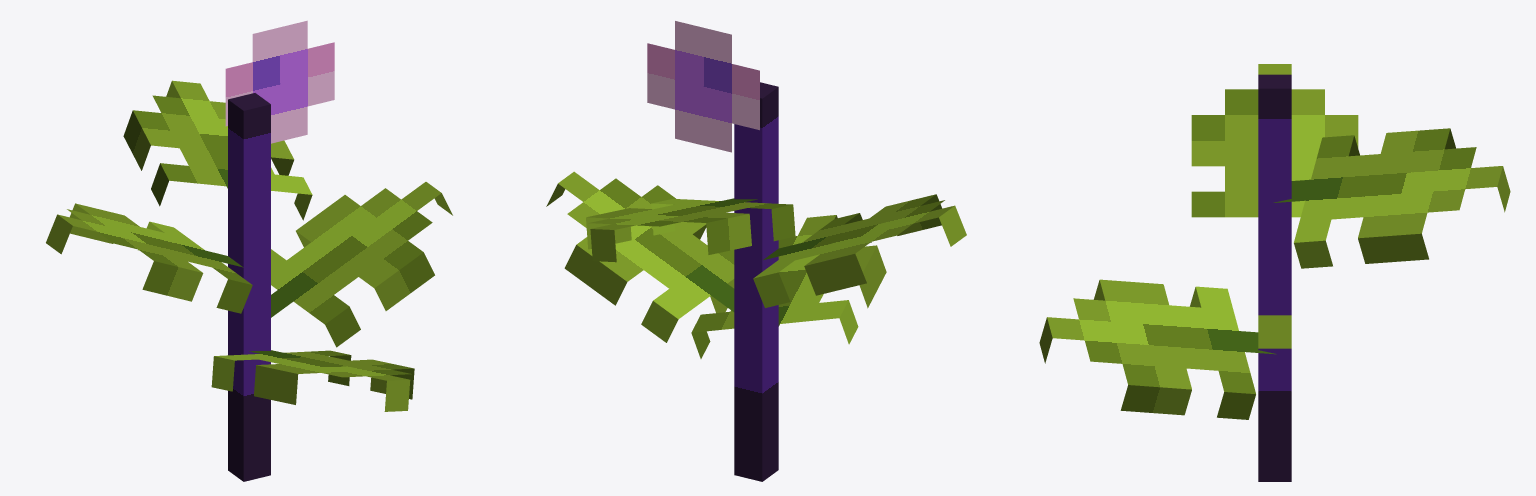
File: eggplant-stage2.gltf
3 renders of one model, left to right at view 1: azimuth 30°, elevation 25°; view 2: azimuth 150°, elevation 25°; view 3: azimuth 270°, elevation 25°, orthographic. The views are drawn at different scales.
Visible parts, largest first — view 1: cube (×6); view 2: cube (×6); view 3: cube (×5).
Part boxes in pixels (box(x1,y1,x2,y2)): cube (×6): box(46, 20, 452, 481); cube (×6): box(546, 21, 966, 481); cube (×5): box(1039, 64, 1510, 481).
Size of the model in its own units: 0.8979 by 0.9375 by 0.9246.
1 material, 1 textured.
